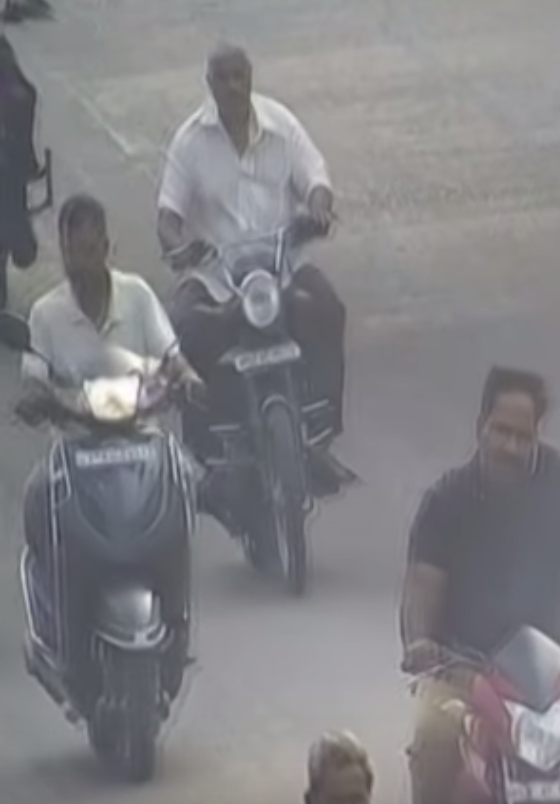h_bike: (22, 193, 195, 786), (182, 42, 348, 600)
h_nohelmet: (467, 356, 548, 512), (54, 186, 120, 311), (289, 719, 383, 804), (204, 31, 258, 143)
numplate: (228, 339, 307, 375), (73, 447, 164, 475)
